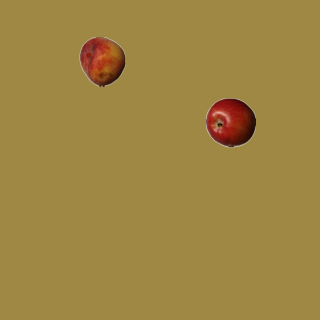Apple Braeburn: (205, 97, 255, 147)
Peach: (77, 36, 127, 86)
